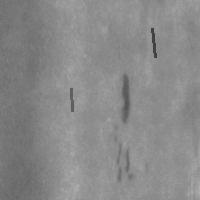inclusion: (117, 68, 137, 127), (111, 135, 133, 188), (150, 26, 157, 59), (69, 86, 74, 113)
